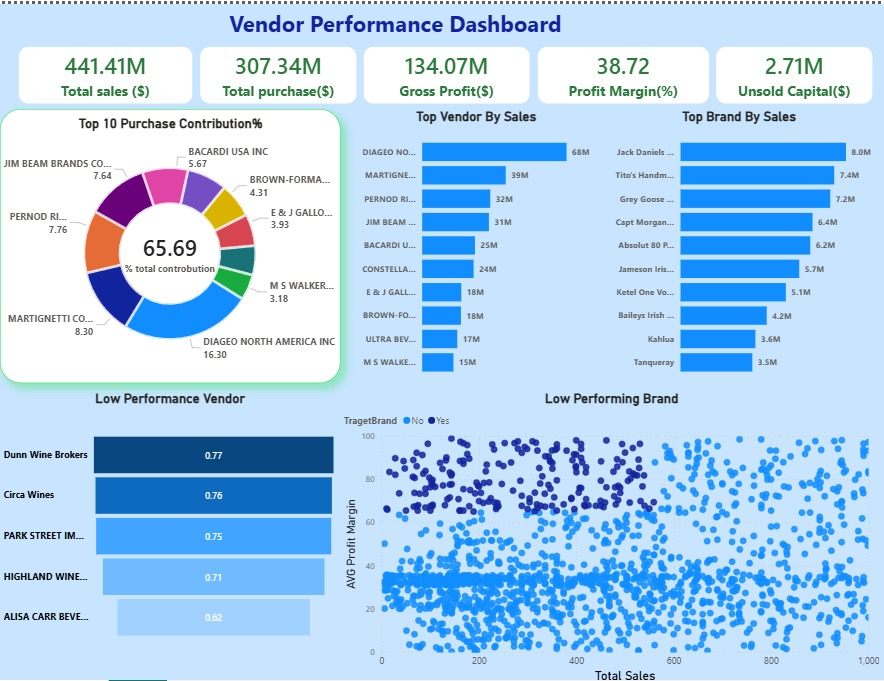

This screenshot's page, from the dashboard's own definition file:
{"tool":"powerbi","page":{"name":"page1","canvas":[1280,1000],"ordinal":0},"visuals":[{"type":"cardVisual","fields":{"Data":["Sum(vendor_sales_summary_filtered.totalsalesdollars)"]},"box":[22.3,57.3,262.5,93.8],"z":0},{"type":"cardVisual","fields":{"Data":["Sum(vendor_sales_summary_filtered.UnsoldCapital)"]},"box":[1032.3,57.3,237,93.8],"z":2},{"type":"cardVisual","fields":{"Data":["Sum(vendor_sales_summary_filtered.totalpurchasedollars)"]},"box":[284.7,57.3,237,93.8],"z":3},{"type":"cardVisual","fields":{"Data":["Sum(vendor_sales_summary_filtered.GrossProfit)"]},"box":[521.7,57.3,251.3,93.8],"z":4},{"type":"cardVisual","fields":{"Data":["Avg(vendor_sales_summary_filtered.ProfitMargin)"]},"box":[773,57.3,259.3,93.8],"z":5},{"type":"textbox","box":[198.8,0,750.8,57.3],"z":6},{"type":"donutChart","title":"Top 10 Purchase Contribution%","fields":{"Category":["PurchaseContribution.vendorname"],"Y":["Sum(PurchaseContribution.PurchaseContribution%)"]},"box":[0,152.7,493.1,397.7],"z":7},{"type":"cardVisual","fields":{"Data":["PurchaseContribution.Top 10 Total"]},"box":[122.5,273.6,249.7,173.4],"z":8},{"type":"clusteredBarChart","title":"Top Vendor By Sales","fields":{"Category":["PurchaseContribution.vendorname"],"Y":["Sum(vendor_sales_summary_filtered.totalsalesdollars)"]},"box":[507.4,151.1,367.4,399.2],"z":9},{"type":"clusteredBarChart","title":"Top Brand By Sales","fields":{"Y":["Sum(vendor_sales_summary_filtered.totalsalesdollars)"],"Category":["vendor_sales_summary_filtered.description"]},"box":[874.8,151.1,394.5,399.2],"z":10},{"type":"funnel","title":"Low Performance Vendor","fields":{"Category":["LowturnoverVendor.vendorname"],"Y":["Avg(LowturnoverVendor.AVGStockTurnOver)"]},"box":[0,561,493,398],"z":11},{"type":"scatterChart","title":"Low Performing Brand","fields":{"Category":["BrandPerformance.description"],"X":["Sum(BrandPerformance.TotalSales)"],"Y":["Sum(BrandPerformance.AVGProfitMarging)"],"Series":["BrandPerformance.TragetBrand"]},"box":[493.8,560.9,785.9,426.6],"z":12}]}

Visuals, with their boxes in screenshot pixels (x1, y1, x2, y2), scaled from the page's 1280x1000 canvas onto the 884x681 screenshot:
cardVisual - Sum(vendor_sales_summary_filtered.totalsalesdollars): left=15, top=39, right=197, bottom=103
cardVisual - Sum(vendor_sales_summary_filtered.UnsoldCapital): left=713, top=39, right=877, bottom=103
cardVisual - Sum(vendor_sales_summary_filtered.totalpurchasedollars): left=197, top=39, right=360, bottom=103
cardVisual - Sum(vendor_sales_summary_filtered.GrossProfit): left=360, top=39, right=534, bottom=103
cardVisual - Avg(vendor_sales_summary_filtered.ProfitMargin): left=534, top=39, right=713, bottom=103
textbox: left=137, top=0, right=656, bottom=39
"Top 10 Purchase Contribution%" donutChart: left=0, top=104, right=341, bottom=375
cardVisual - PurchaseContribution.Top 10 Total: left=85, top=186, right=257, bottom=304
"Top Vendor By Sales" clusteredBarChart: left=350, top=103, right=604, bottom=375
"Top Brand By Sales" clusteredBarChart: left=604, top=103, right=877, bottom=375
"Low Performance Vendor" funnel: left=0, top=382, right=340, bottom=653
"Low Performing Brand" scatterChart: left=341, top=382, right=883, bottom=672
